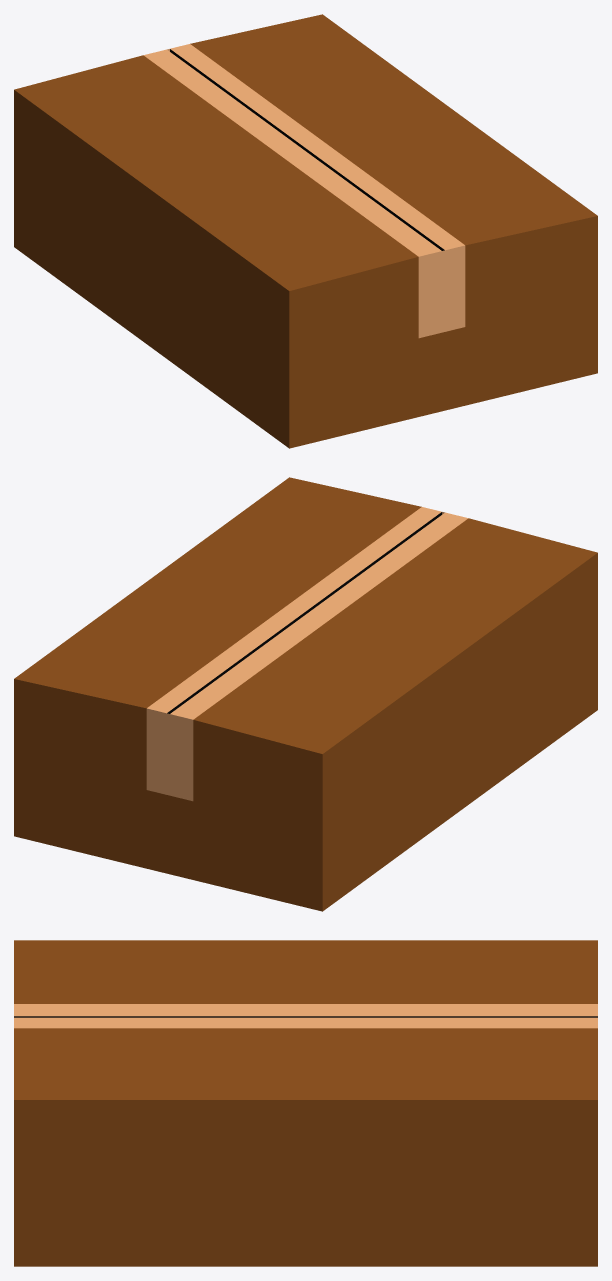
File: chicken_shipping_box.fbx
The picture shows the model from 3 angles, top to bottom: view 1: azimuth 30°, elevation 25°; view 2: azimuth 150°, elevation 25°; view 3: azimuth 270°, elevation 25°; orthographic projection. The views are drawn at different scales.
Visible parts, largest first — view 1: Cube; view 2: Cube; view 3: Cube.
Part boxes in pixels (x1,y1,x2,y2): Cube: [14, 14, 597, 448]; Cube: [14, 477, 597, 911]; Cube: [14, 940, 597, 1266].
Size of the model in its own units: 372 by 185 by 575.
